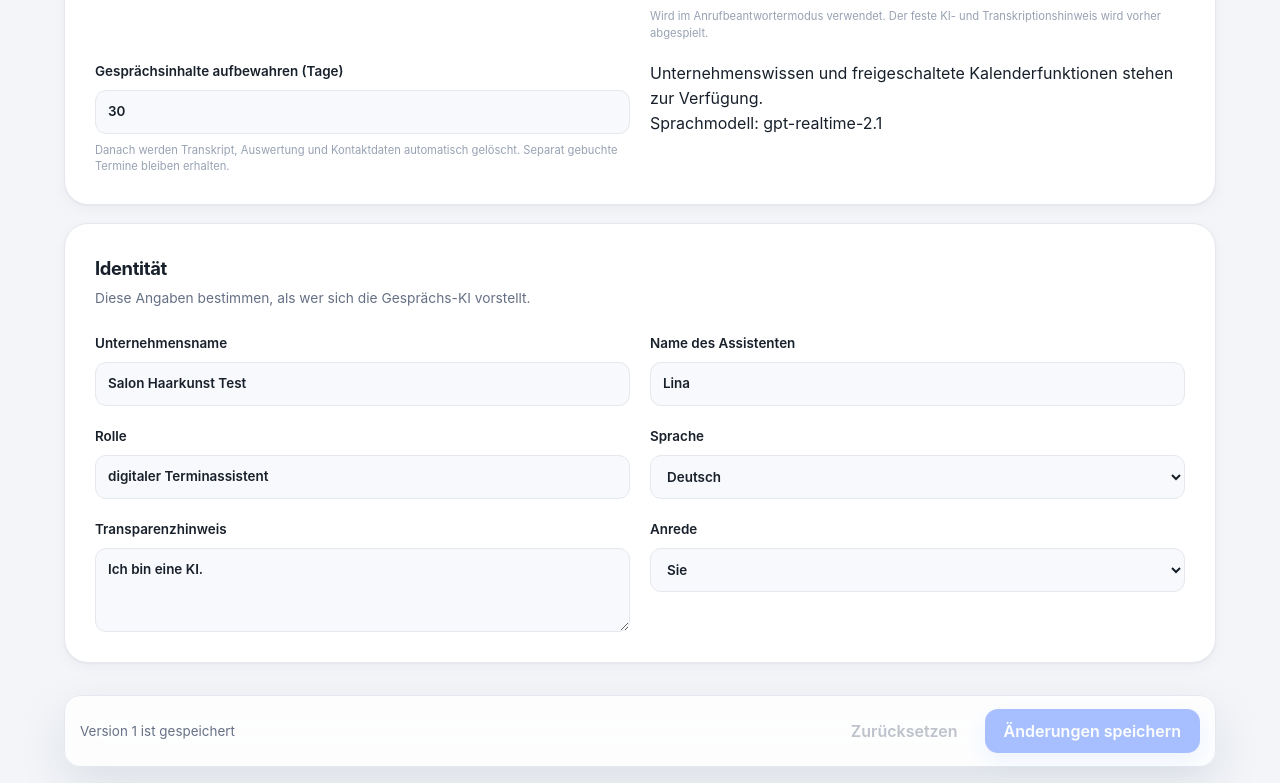
KI-Einstellungen › kennzeichnet Änderungen, kann zurücksetzen und speichert mit Versionsschutz
(page scrolled)
Replace the text in the field showing "Lina" with "Mira": {"x": 918, "y": 384} 650,362 -> 1185,406
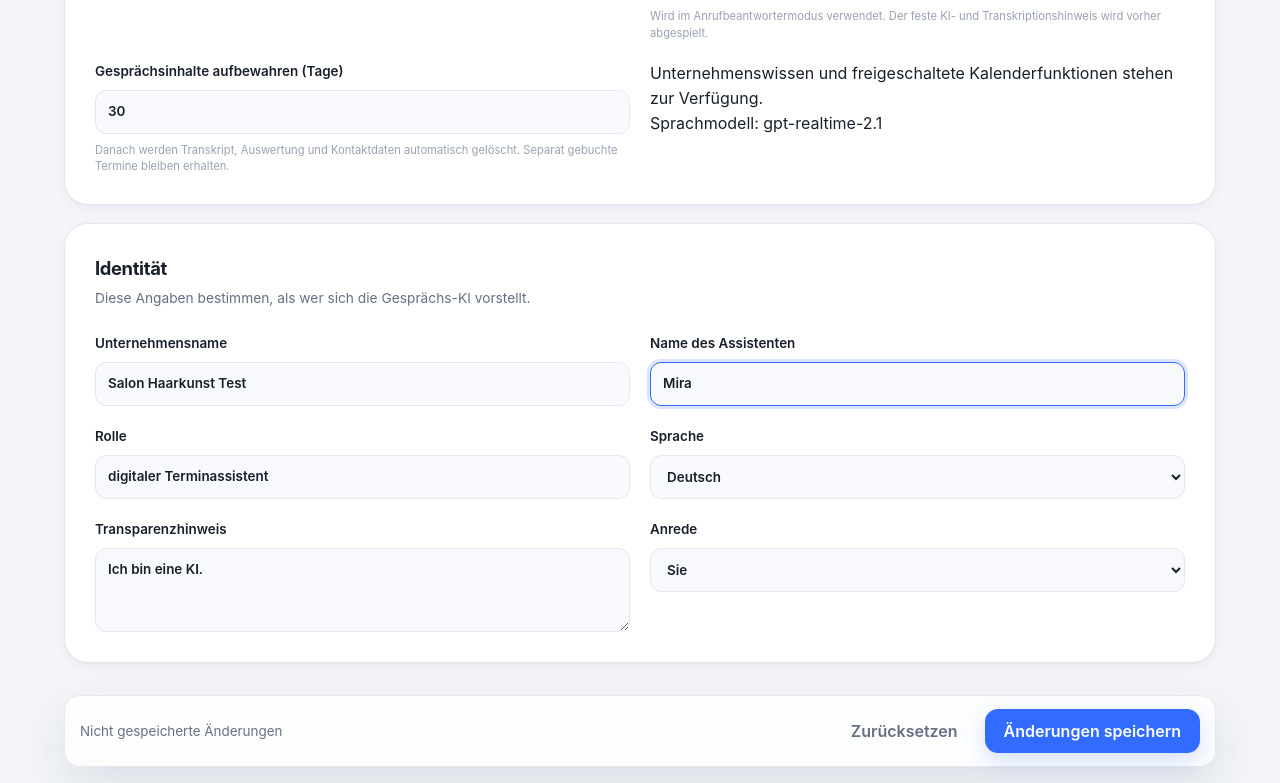
Result: the text "Nicht gespeicherte Änderungen" is shown at 80,721 -> 282,741
Click the button "Zurücksetzen": {"x": 904, "y": 731} 832,709 -> 977,753
(page scrolled)
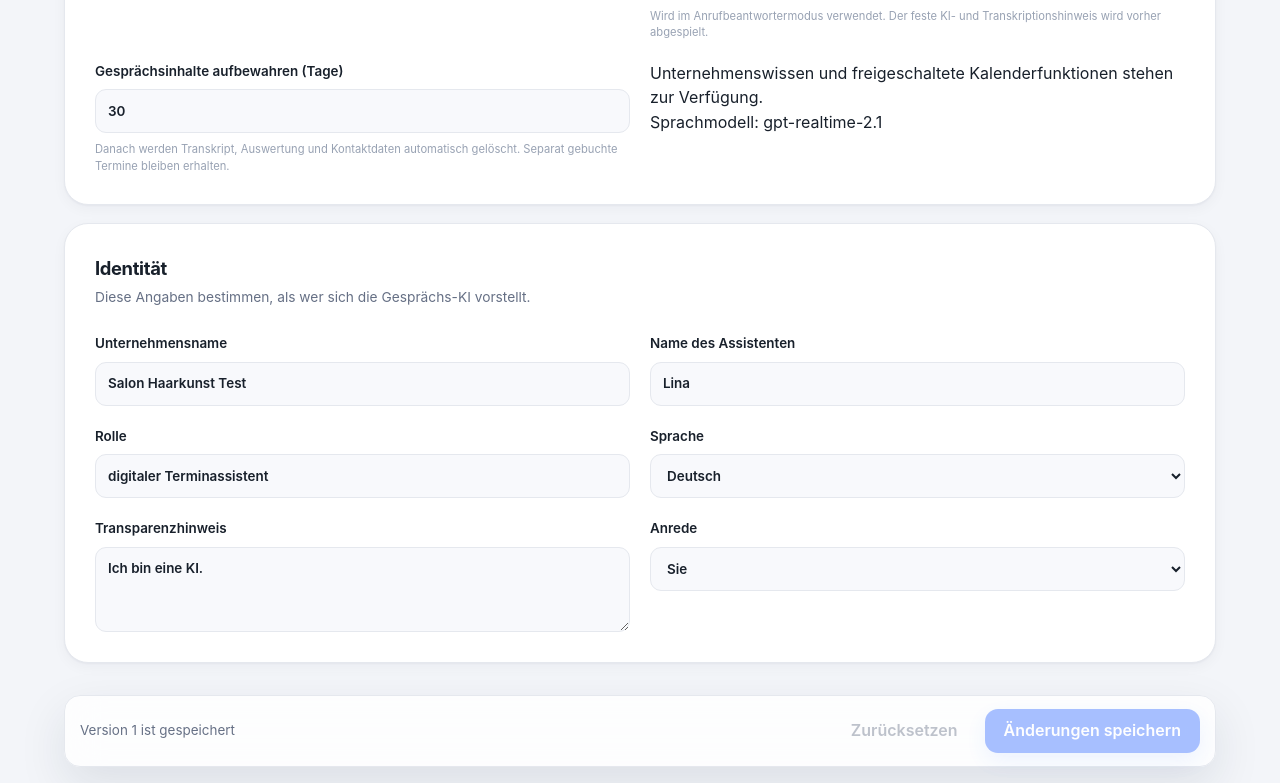
Result: the field showing "Lina" is shown
Replace the text in the field labelled "Name des Assistenten" with "Mira": {"x": 918, "y": 384} 650,362 -> 1185,406
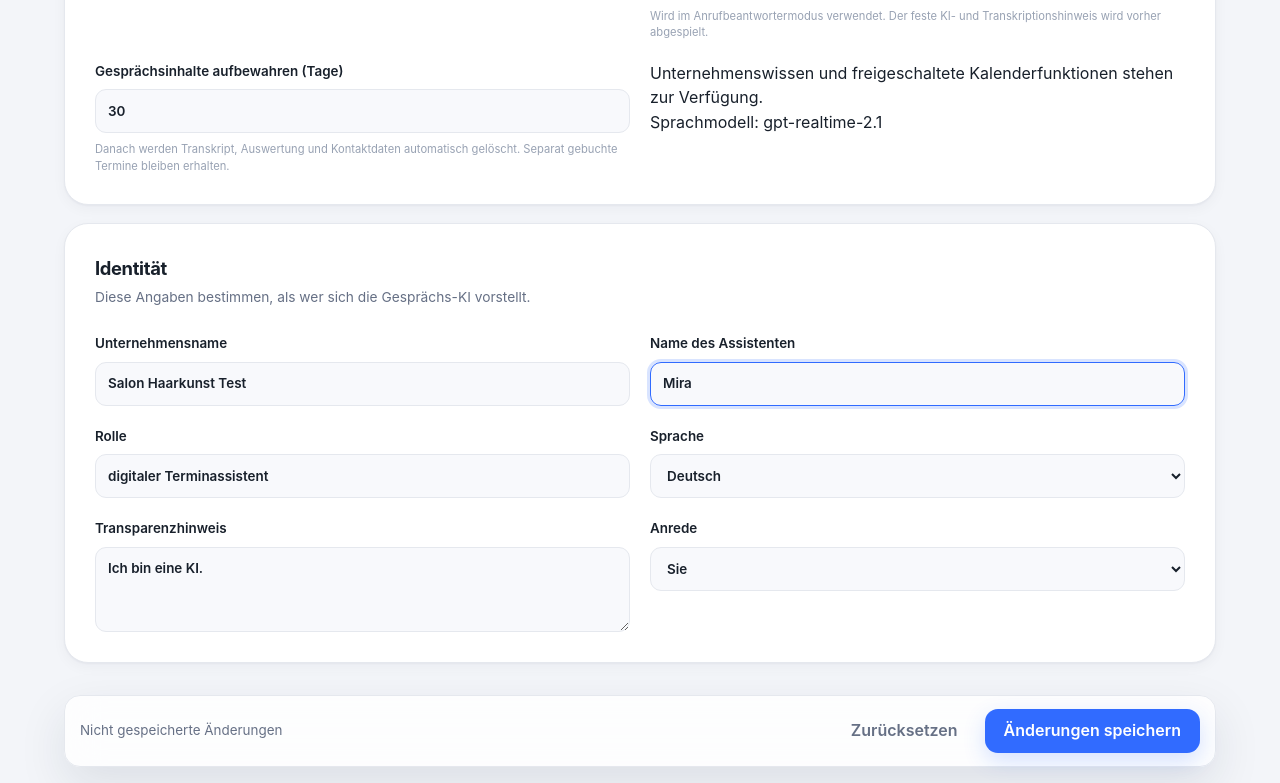
Click the button "Änderungen speichern": {"x": 1092, "y": 731} 985,709 -> 1200,753
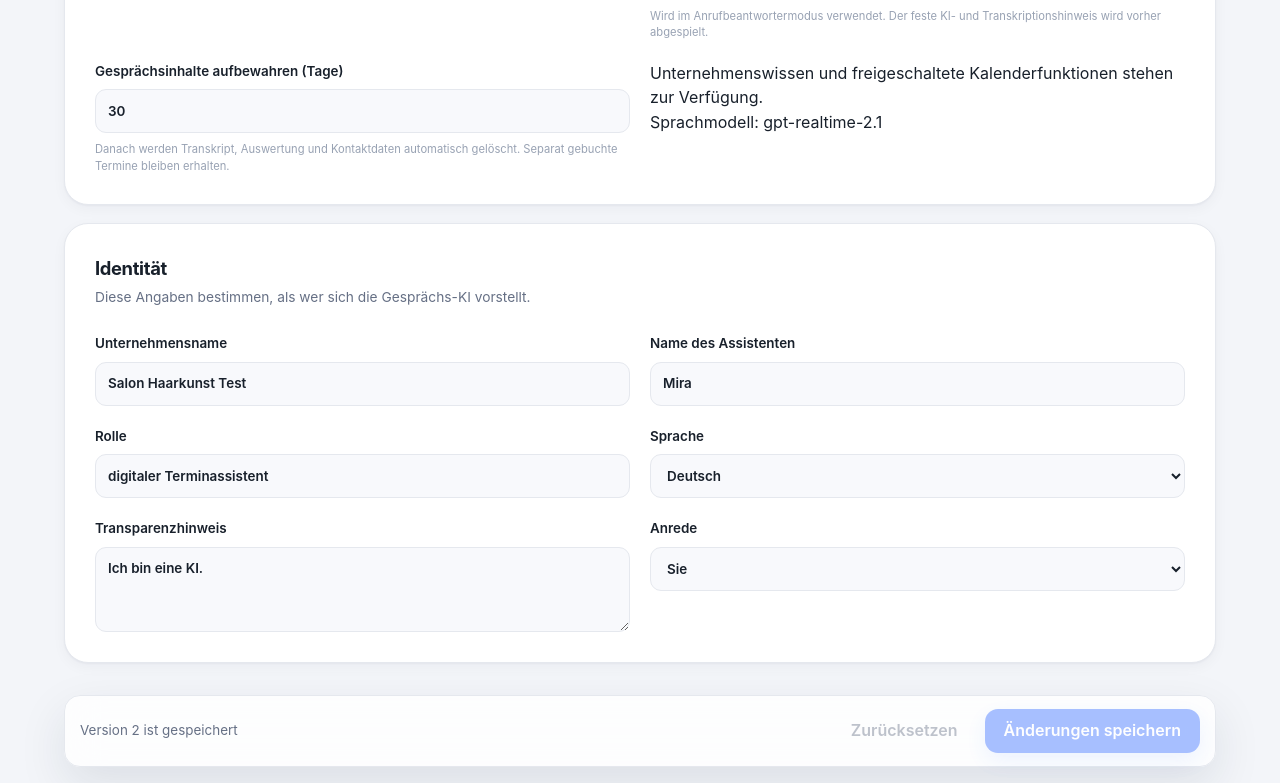
Result: the text "Version 2 ist gespeichert" is shown at 80,721 -> 238,741
